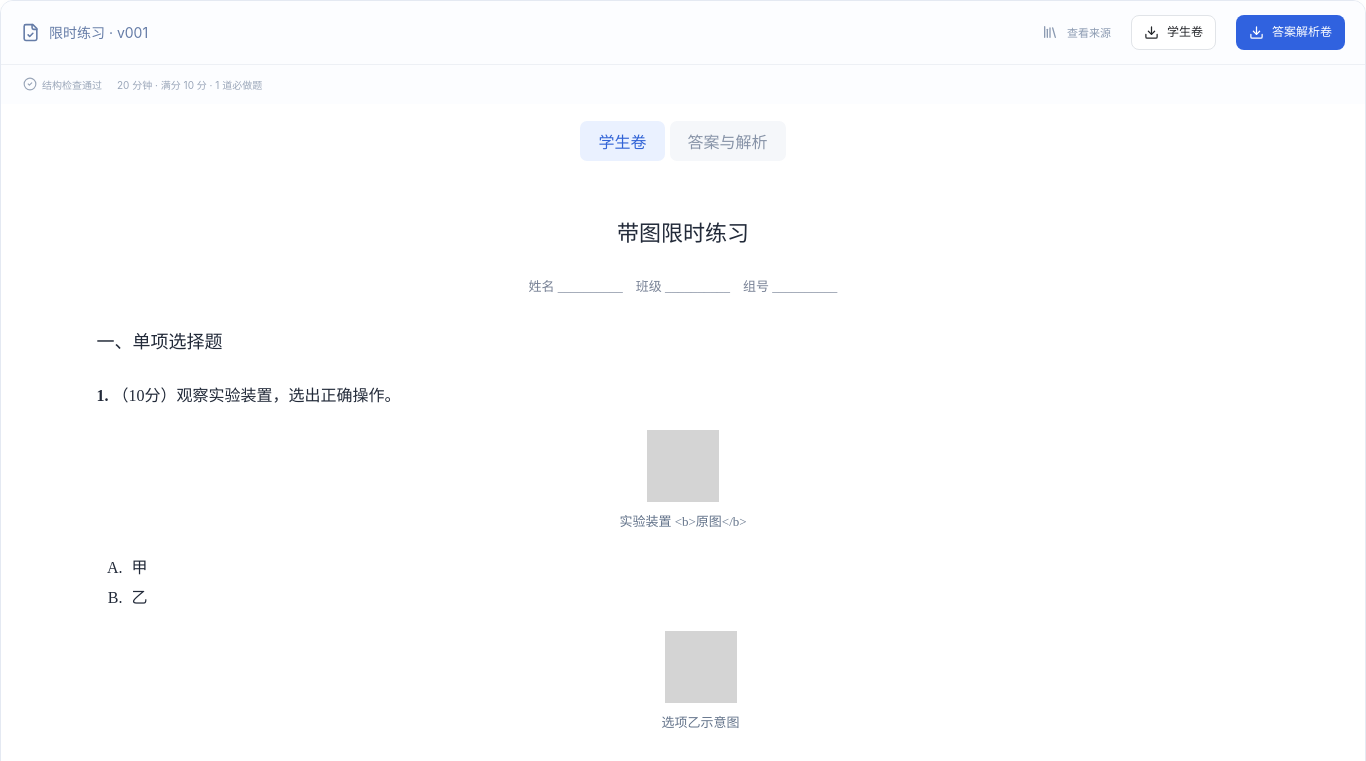
Test case: student paper shows question and option images without leaking answer images
The width and height of the screenshot is (1366, 761).
Check: the list item "选项乙示意图" is shown, box [132, 589, 148, 606]
Check: the picture "解析示意图" is not shown
Click the button "答案与解析": (728, 141) [670, 121, 786, 161]
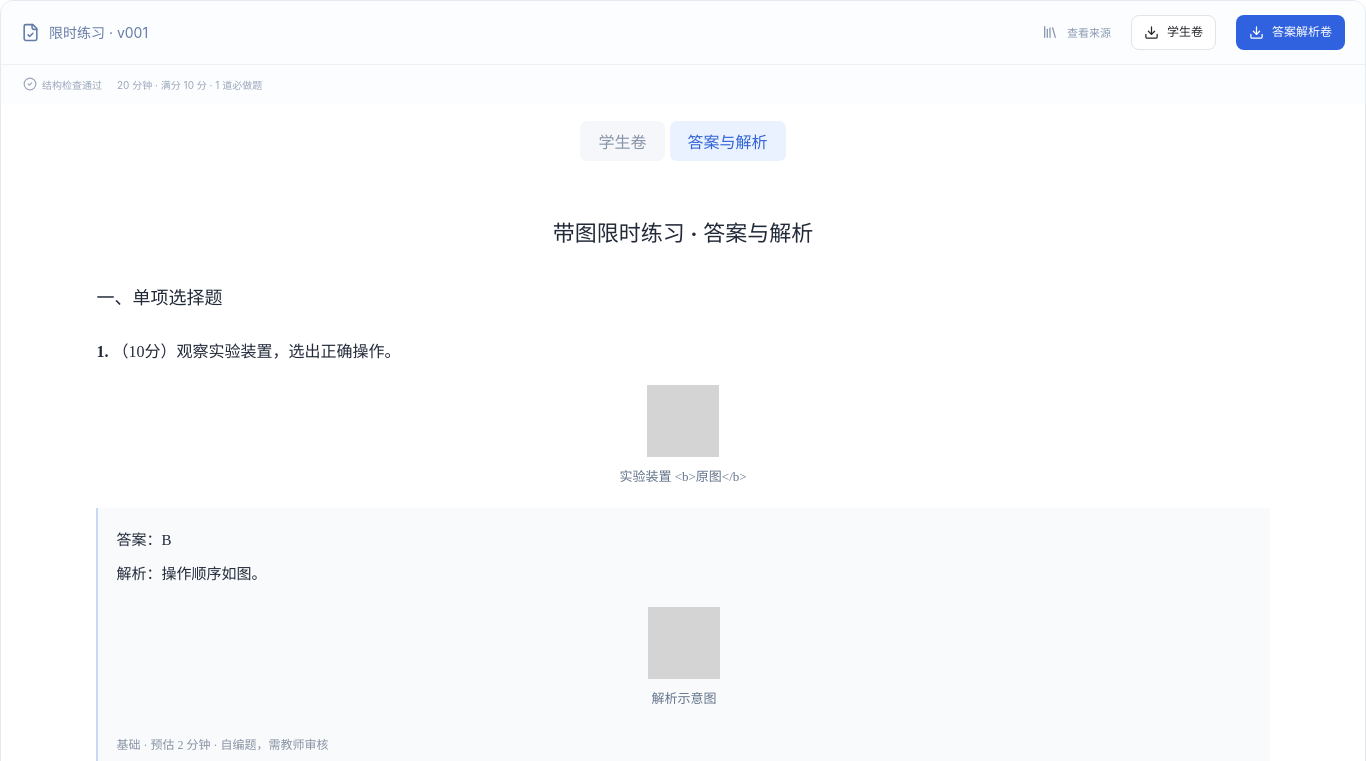
Check: the text "选项乙示意图" is gone
